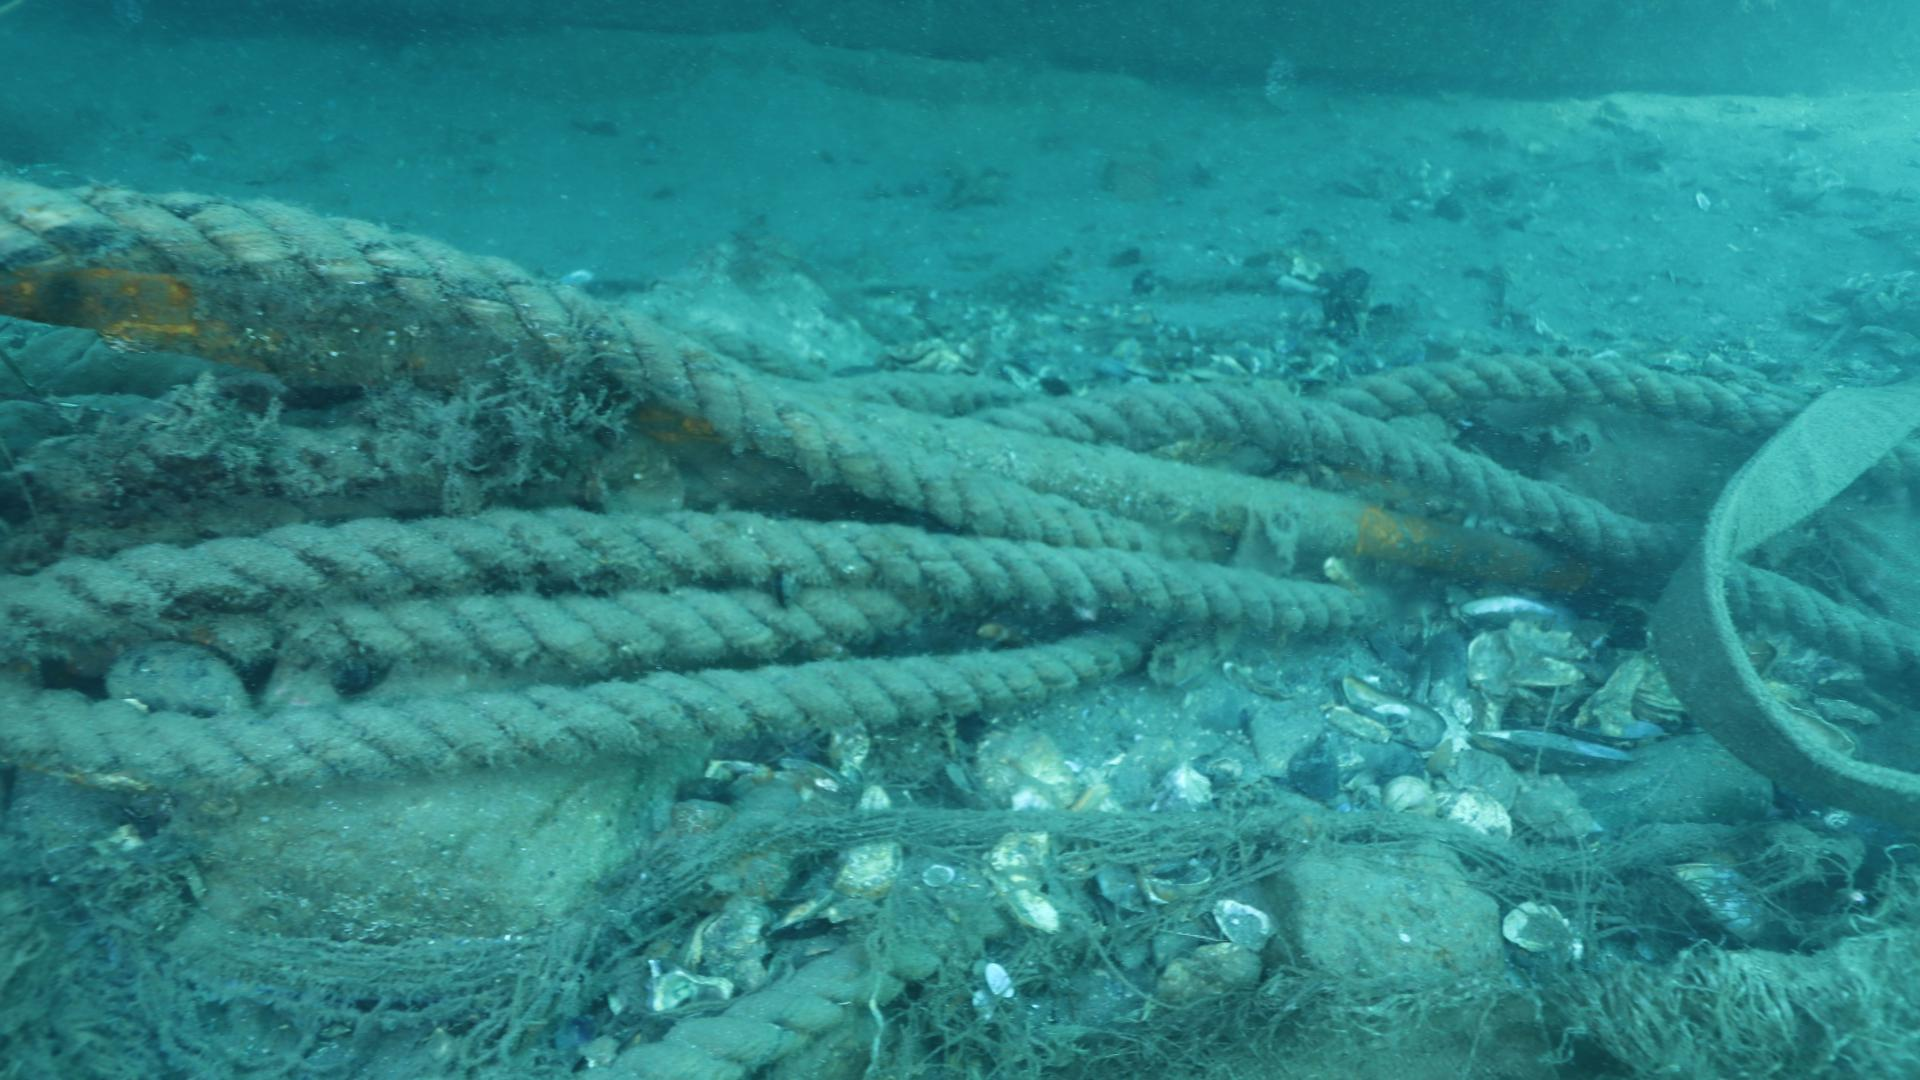bundle of ropes: (0, 164, 1920, 793)
